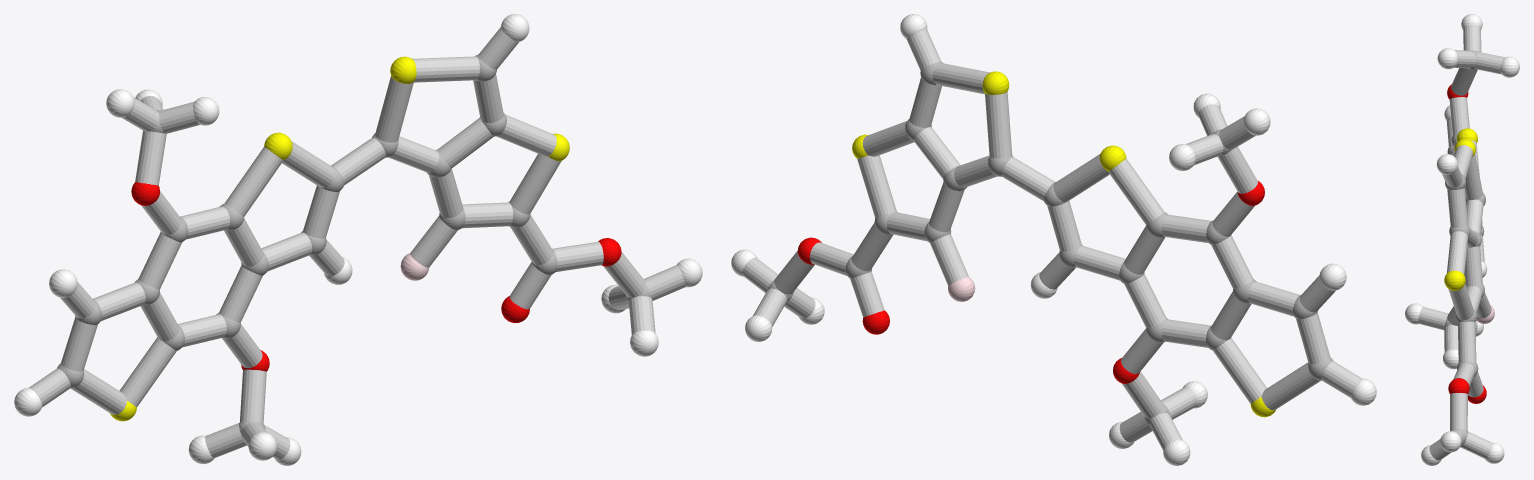
The model's file is color.glb.
3 renders of one model, left to right at view 1: azimuth 30°, elevation 25°; view 2: azimuth 150°, elevation 25°; view 3: azimuth 270°, elevation 25°, orthographic. The views are drawn at different scales.
Visible parts, largest first — view 1: grp15205, grp8689, grp1, grp7241, grp13395; view 2: grp15205, grp8689, grp1, grp13395, grp7241; view 3: grp15205, grp8689, grp1, grp7241, grp13395, grp14843.
Boxes of the visible parts, left/top/right/bottom form: grp15205: left=29, top=27, right=685, bottom=459; grp8689: left=14, top=14, right=702, bottom=465; grp1: left=57, top=54, right=651, bottom=434; grp7241: left=110, top=56, right=569, bottom=421; grp13395: left=131, top=182, right=621, bottom=371; grp15205: left=742, top=29, right=1361, bottom=450; grp8689: left=731, top=14, right=1376, bottom=465; grp1: left=767, top=61, right=1333, bottom=426; grp13395: left=797, top=181, right=1264, bottom=383; grp7241: left=852, top=71, right=1276, bottom=417; grp15205: left=1418, top=26, right=1504, bottom=460; grp8689: left=1405, top=14, right=1519, bottom=465; grp1: left=1444, top=50, right=1485, bottom=447; grp7241: left=1444, top=128, right=1477, bottom=290; grp13395: left=1447, top=84, right=1486, bottom=403; grp14843: left=1476, top=305, right=1494, bottom=323.
Bounding box in the file's own units: 16.37 × 9.26 × 3.24.
